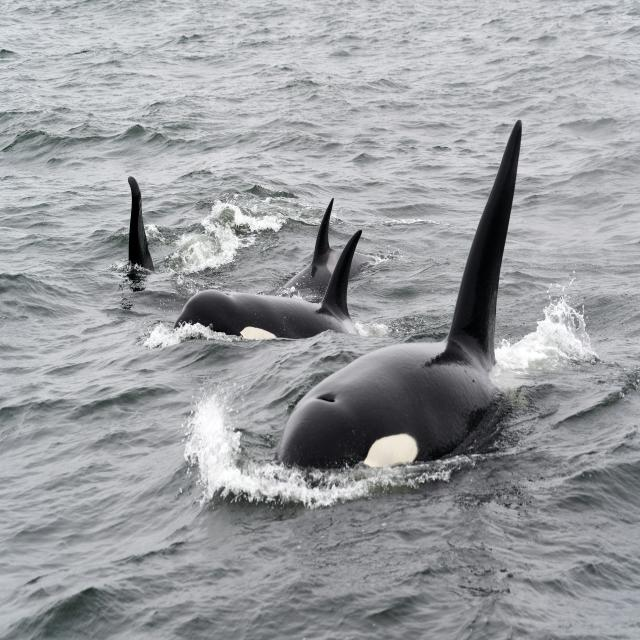ballena: (274, 118, 523, 472), (279, 121, 522, 468), (176, 199, 372, 339), (173, 227, 363, 340), (127, 175, 154, 273), (128, 177, 153, 270)
